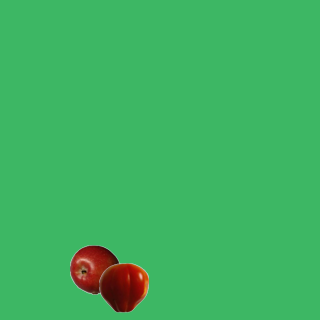Apple Braeburn: (69, 244, 119, 294)
Tomato 1: (98, 262, 148, 312)
